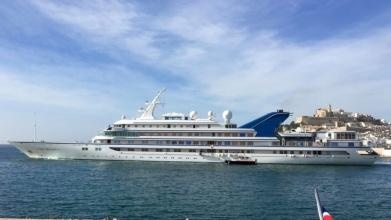yacht: (11, 102, 368, 161)
